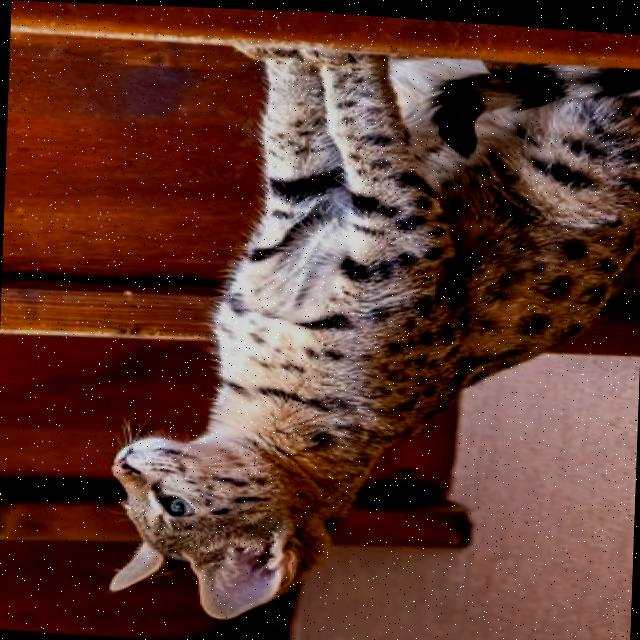Savannah: (96, 29, 640, 640)
